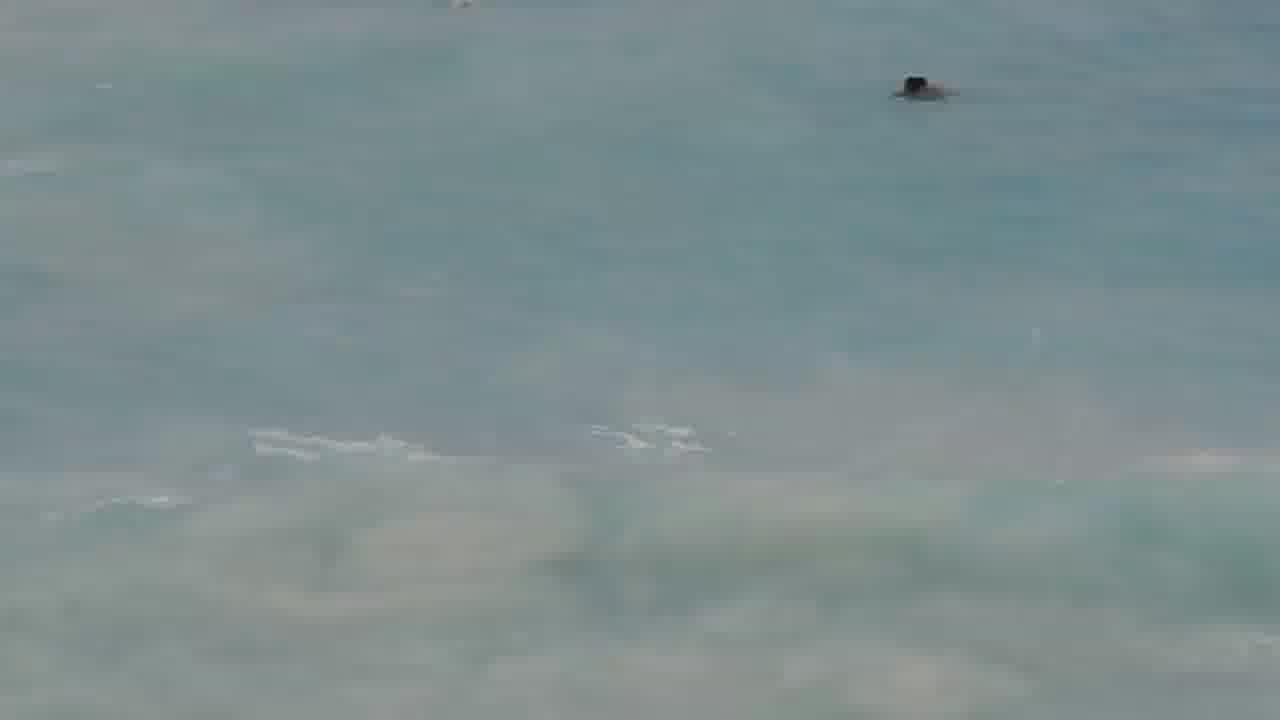swimmer: (886, 67, 969, 106)
